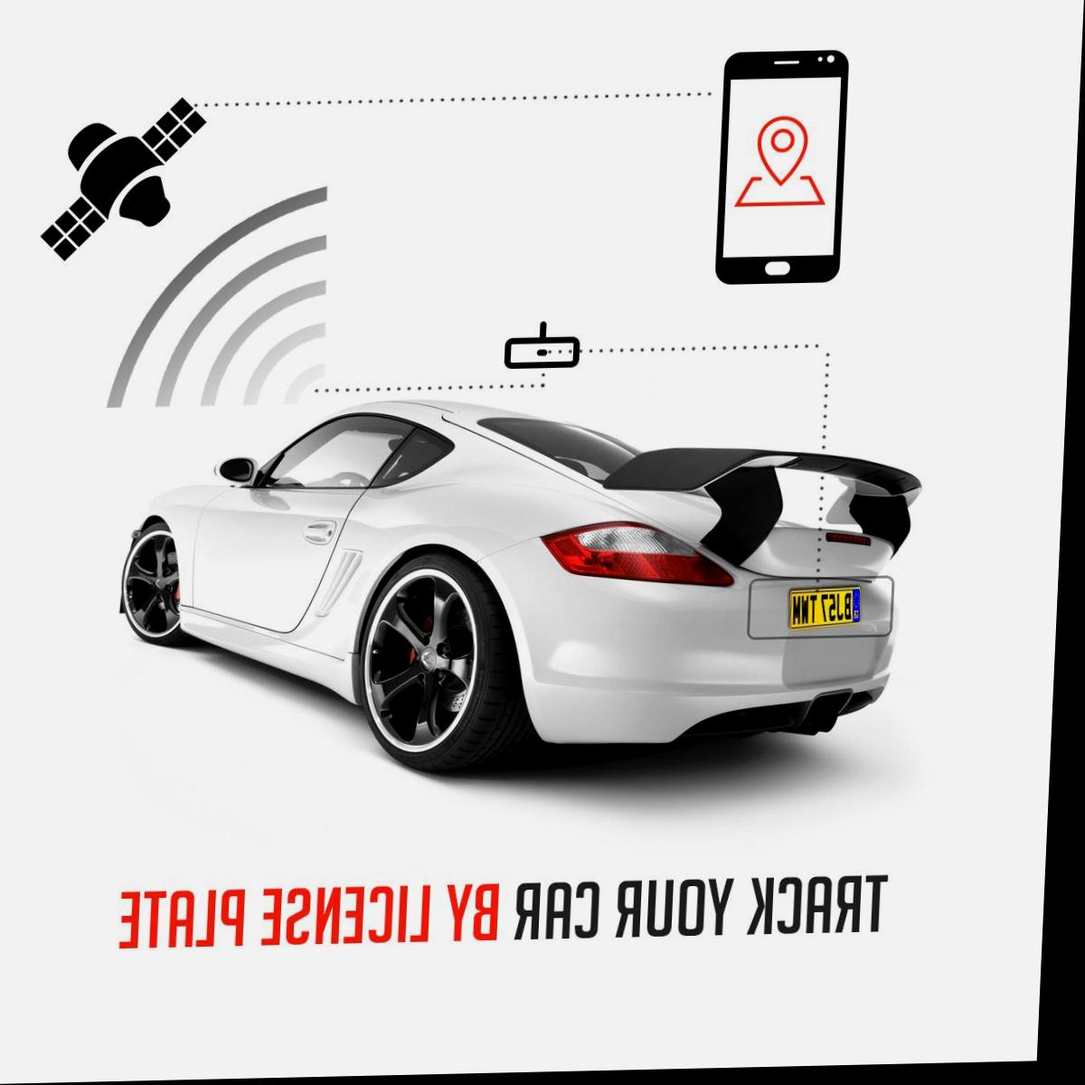License_Plate: (788, 581, 861, 631)
